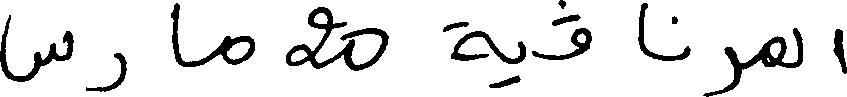X: (0, 10, 71, 86), (288, 2, 343, 73), (534, 0, 588, 64), (452, 17, 489, 91), (345, 17, 386, 75), (87, 48, 124, 96), (707, 42, 739, 96), (222, 31, 252, 69), (765, 31, 783, 71), (836, 24, 846, 78), (173, 0, 180, 69), (793, 23, 801, 72), (639, 0, 644, 58), (519, 36, 524, 86), (683, 41, 688, 63)
